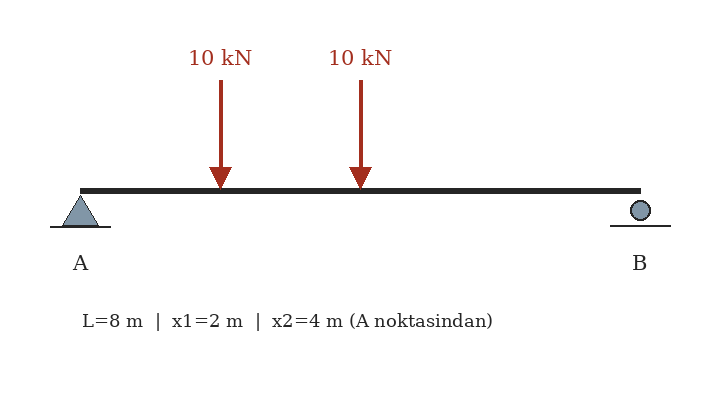pin_support: (61, 190, 99, 226)
point_load: (206, 76, 234, 190), (346, 76, 374, 190)
roller_support: (625, 196, 655, 227)
